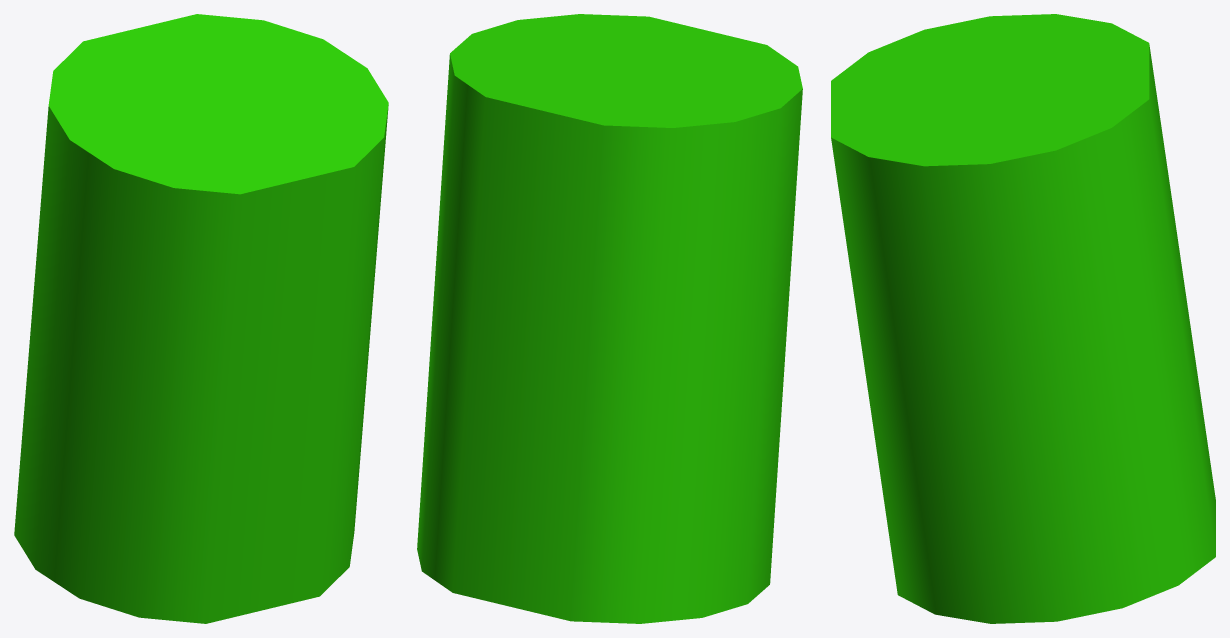
The model's file is Jetpack_Fuel.fbx.
3 renders of one model, left to right at view 1: azimuth 30°, elevation 25°; view 2: azimuth 150°, elevation 25°; view 3: azimuth 270°, elevation 25°, orthographic. The views are drawn at different scales.
Parts seen in each view (by area): view 1: Fuelcan; view 2: Fuelcan; view 3: Fuelcan.
Boxes of the visible parts, <box> form: Fuelcan: <box>14,14,388,623</box>; Fuelcan: <box>417,14,802,623</box>; Fuelcan: <box>831,14,1215,623</box>.
Size of the model in its own units: 13.08 by 20.55 by 14.43.
